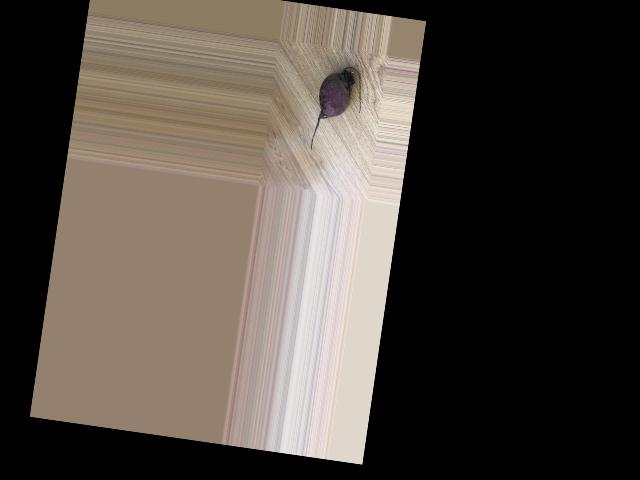beet: (309, 63, 366, 157)
